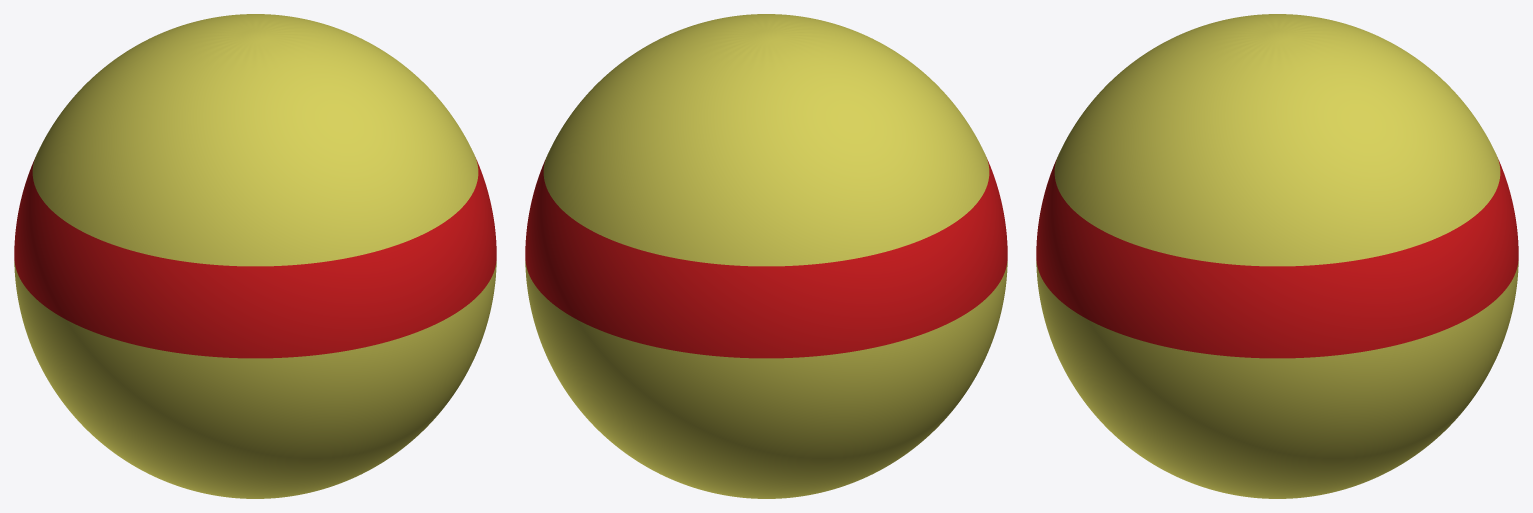
File: Ball.fbx
The picture shows the model from 3 angles, left to right: view 1: azimuth 30°, elevation 25°; view 2: azimuth 150°, elevation 25°; view 3: azimuth 270°, elevation 25°; orthographic projection.
Visible parts, largest first — view 1: Sphere; view 2: Sphere; view 3: Sphere.
Boxes of the visible parts, x1,y1,x2,y2 form: Sphere: [14, 14, 496, 498]; Sphere: [525, 14, 1007, 498]; Sphere: [1036, 14, 1518, 498].
Bounding box in the file's own units: 197 × 200 × 197.
